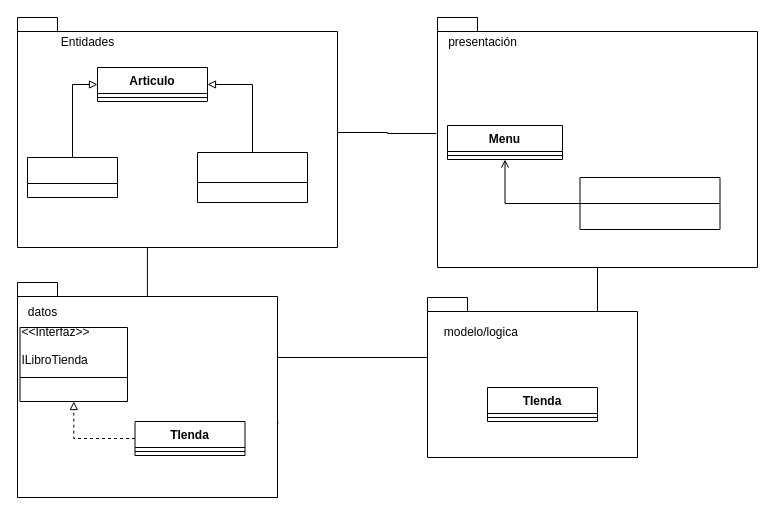
Some shapes in this 775 by 515 pixel diagram are drawn without their labels. Each missing label, with the centre of its shape:
"ProductoA" goes at point (72, 177).
"ProductoU" goes at point (252, 177).
"vista de consola" goes at point (649, 203).
